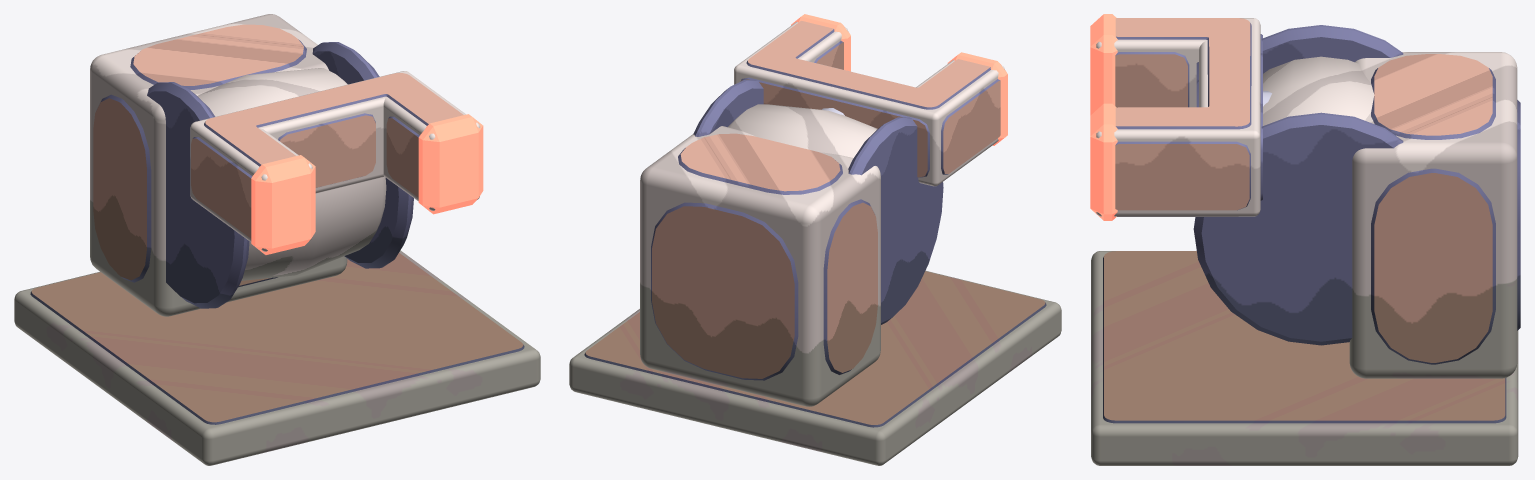
Rendered from R4X_MagneticGrapple.glb.
3 views of the same model, side by side, from view 1: azimuth 30°, elevation 25°; view 2: azimuth 150°, elevation 25°; view 3: azimuth 270°, elevation 25° (orthographic). The views are drawn at different scales.
Visible parts, largest first — view 1: R4X_MagneticGrapple_Body; view 2: R4X_MagneticGrapple_Body; view 3: R4X_MagneticGrapple_Body.
Part boxes in pixels (x1,y1,x2,y2): R4X_MagneticGrapple_Body: (14,14,540,465); R4X_MagneticGrapple_Body: (569,14,1061,465); R4X_MagneticGrapple_Body: (1090,14,1520,465).
Bounding box in the file's own units: 0.514 × 0.414 × 0.518.
5 materials, 4 textured.
